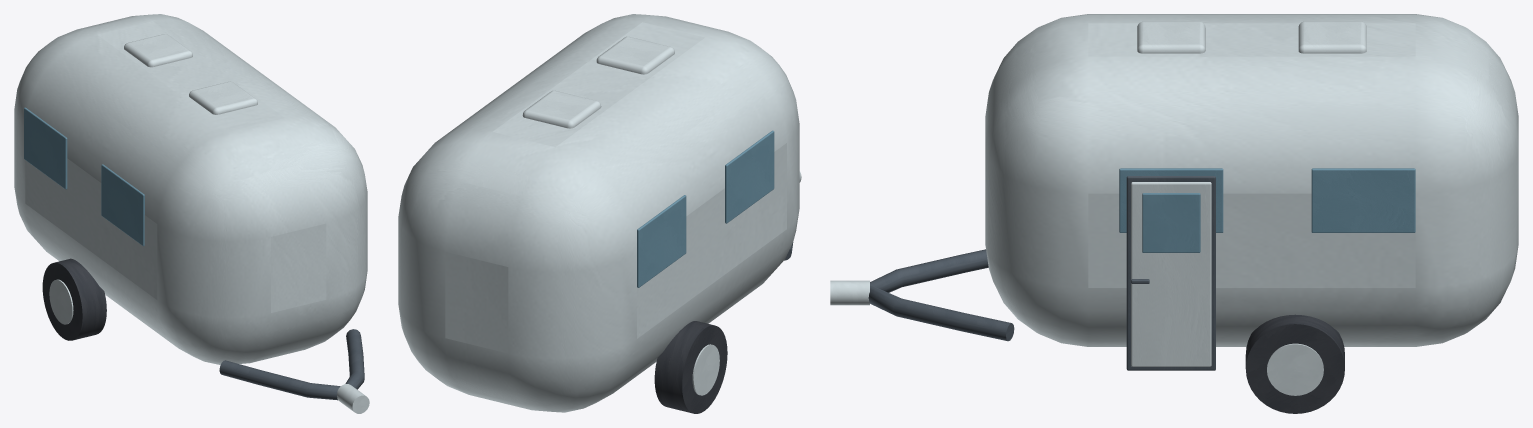
Rendered from trailer.glb.
3 views of the same model, side by side, from view 1: azimuth 30°, elevation 25°; view 2: azimuth 150°, elevation 25°; view 3: azimuth 270°, elevation 25° (orthographic). The views are drawn at different scales.
Visible parts, largest first — view 1: trailer; view 2: trailer; view 3: trailer.
Boxes of the visible parts, left/top/right/bottom form: trailer: left=14, top=14, right=369, bottom=413; trailer: left=398, top=14, right=801, bottom=413; trailer: left=830, top=14, right=1518, bottom=413.
Size of the model in its own units: 2.6 by 2.79 by 5.55.
Materials: 3 (3 with a texture image).
